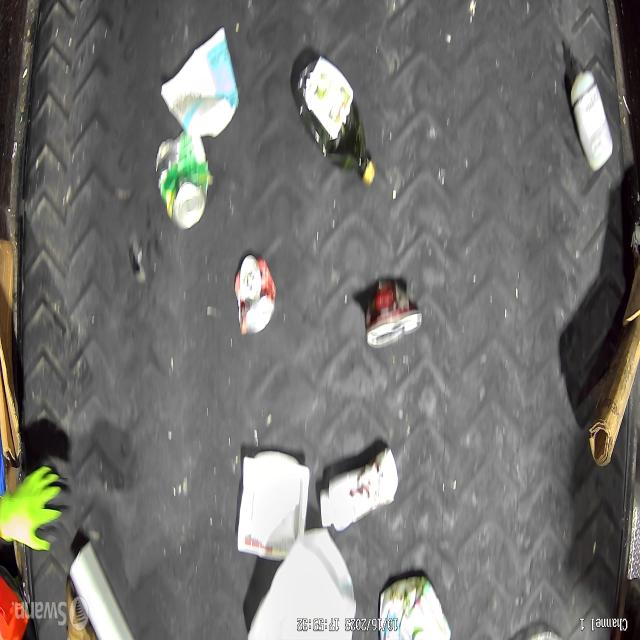can: (155, 130, 209, 231), (364, 278, 422, 348), (234, 255, 276, 336)
milk_jug: (248, 527, 357, 640)
non_white_jug: (379, 575, 450, 640)
plastic_bottle: (295, 60, 374, 188)
